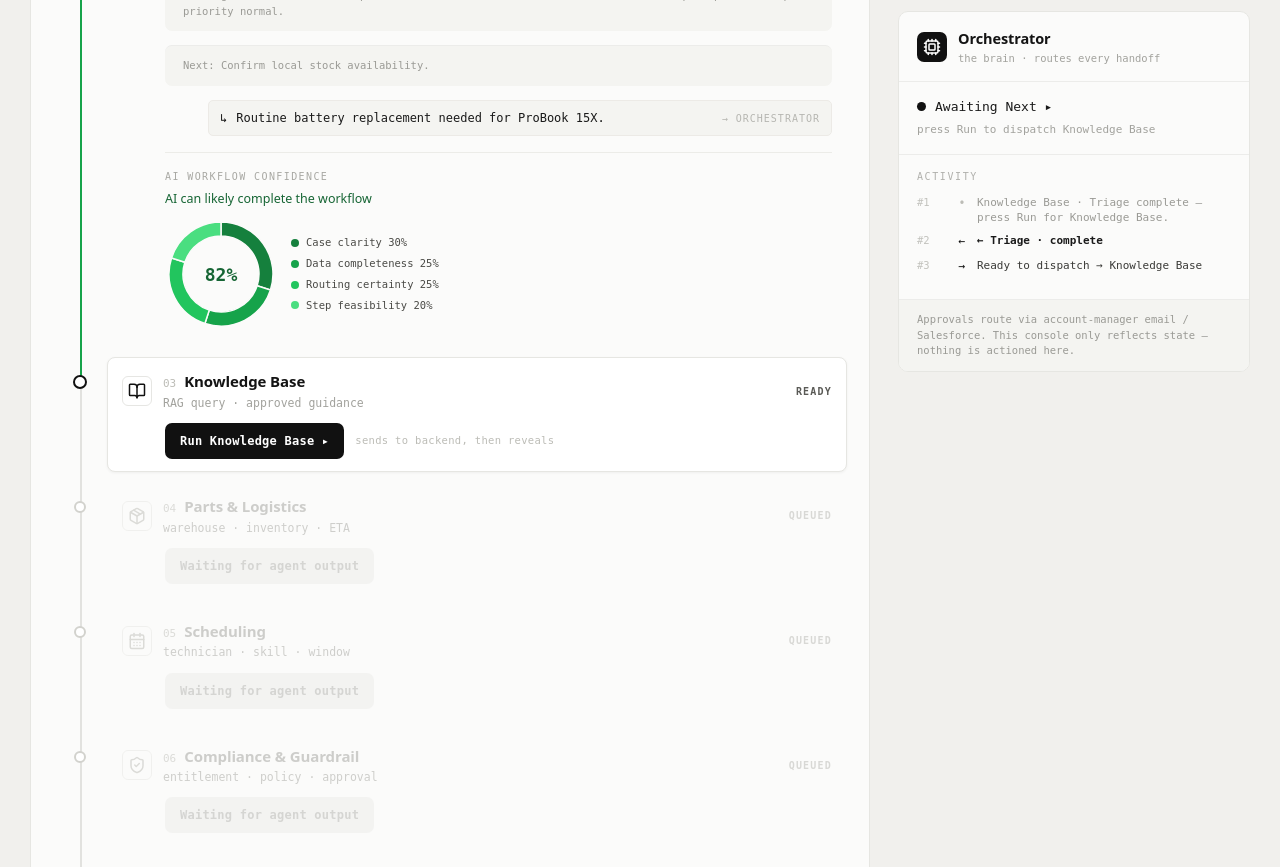
SteppedOrchestrationView — Phase 2 (real stepped run) › shows RUNNING on the node header during completion animation
(page scrolled)
Click the button "Run Knowledge Base ▸". click: (255, 441)
box: [165, 423, 344, 459]
Wait 2000 ms
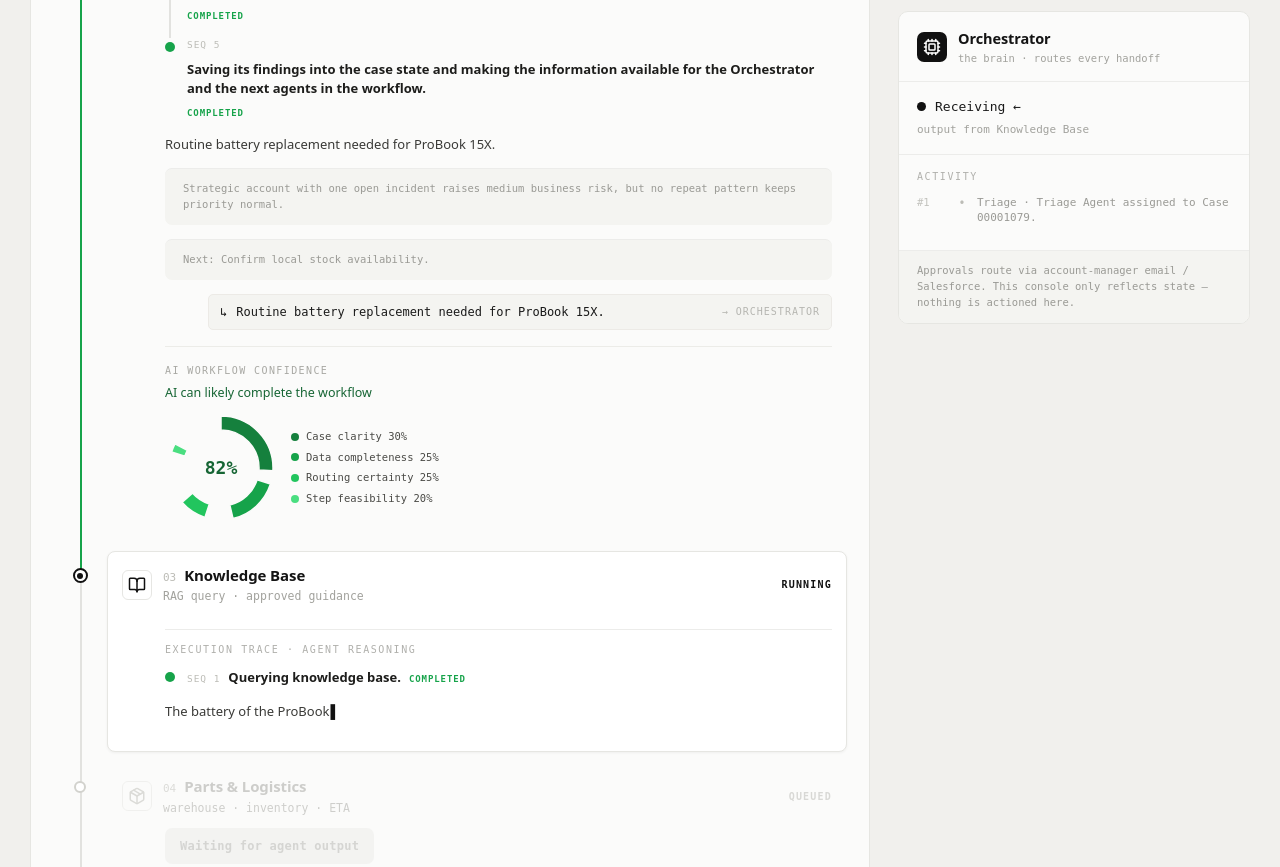
Result: the text "RUNNING" is shown at [782, 577, 832, 592]
